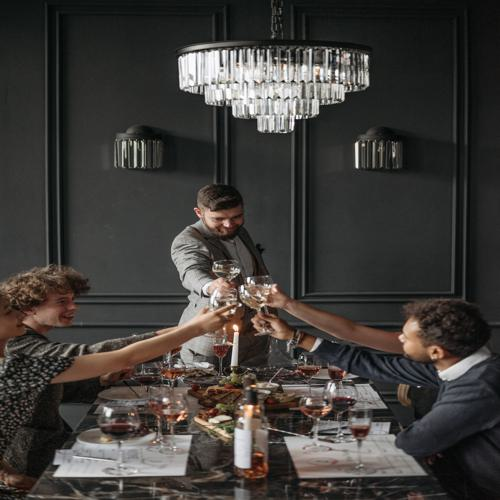copa: (98, 404, 142, 477), (244, 273, 281, 341), (326, 381, 356, 443), (301, 392, 333, 449), (147, 383, 172, 448), (162, 395, 189, 455), (348, 410, 372, 469), (212, 288, 240, 333), (213, 257, 244, 290), (326, 359, 349, 402), (297, 354, 320, 395), (213, 335, 231, 384)
